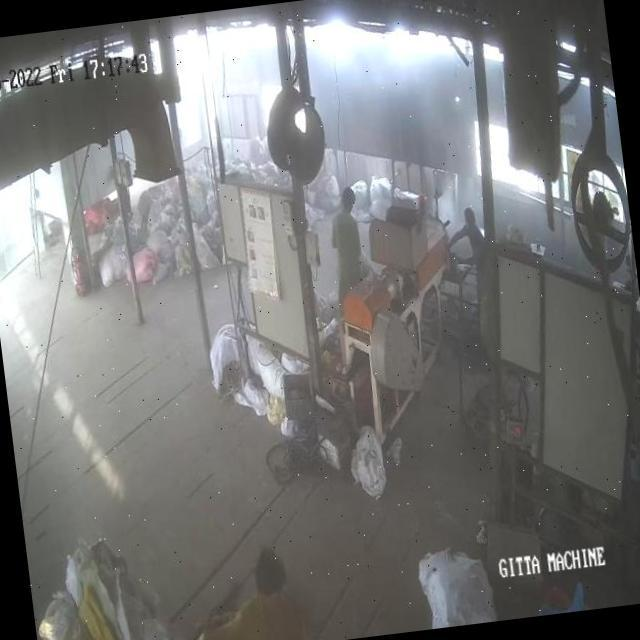person: (462, 203, 498, 357), (328, 184, 368, 318)
